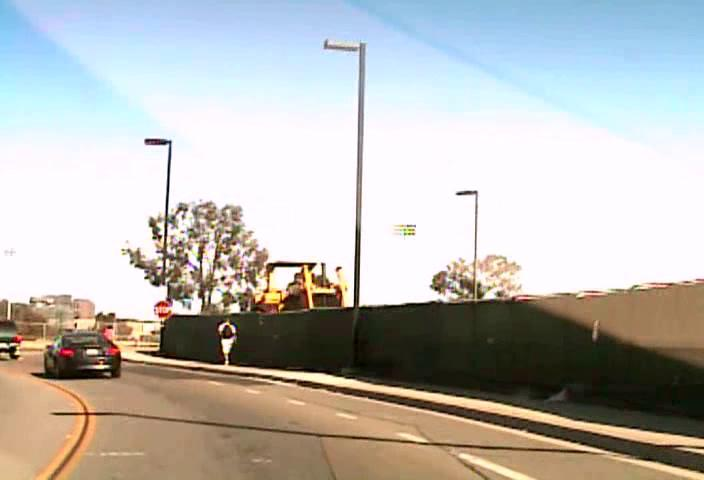stop: (152, 300, 171, 319)
